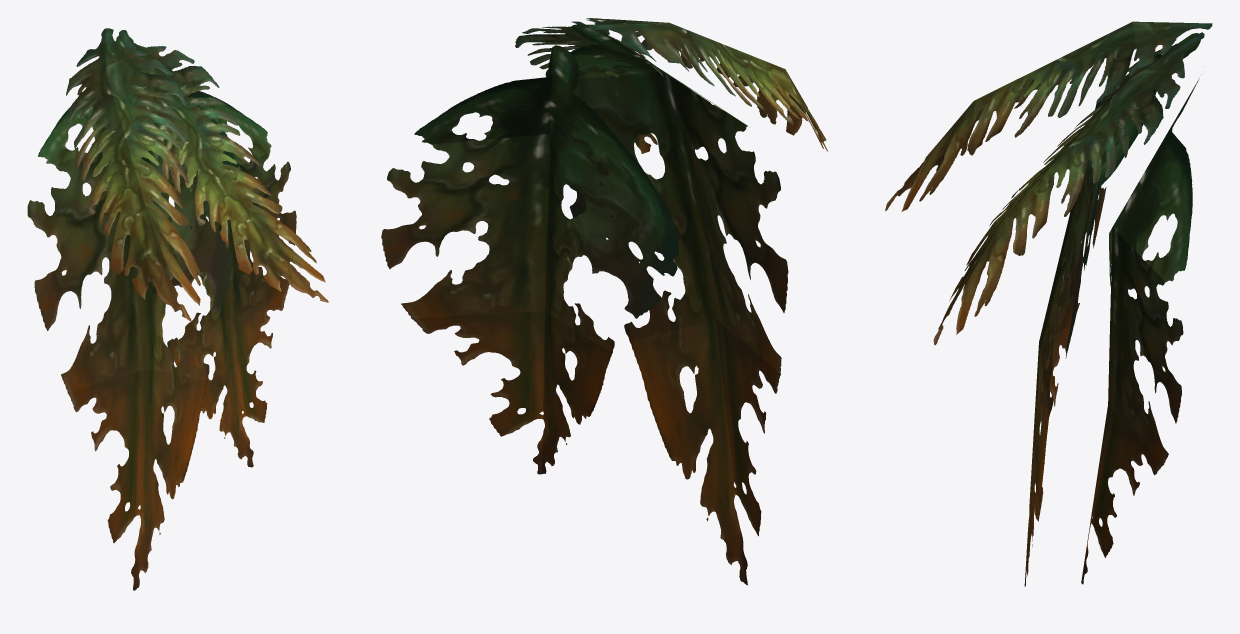
The model's file is stemple_broadleaf_straight_03.fbx.
3 views of the same model, side by side, from view 1: azimuth 30°, elevation 25°; view 2: azimuth 150°, elevation 25°; view 3: azimuth 270°, elevation 25° (orthographic). The views are drawn at different scales.
Parts seen in each view (by area): view 1: obj0.299; view 2: obj0.299; view 3: obj0.299.
Boxes of the visible parts, <box> form: obj0.299: <box>27,28,328,590</box>; obj0.299: <box>381,18,827,585</box>; obj0.299: <box>885,21,1212,586</box>.
Size of the model in its own units: 1.85 by 3 by 1.53.
